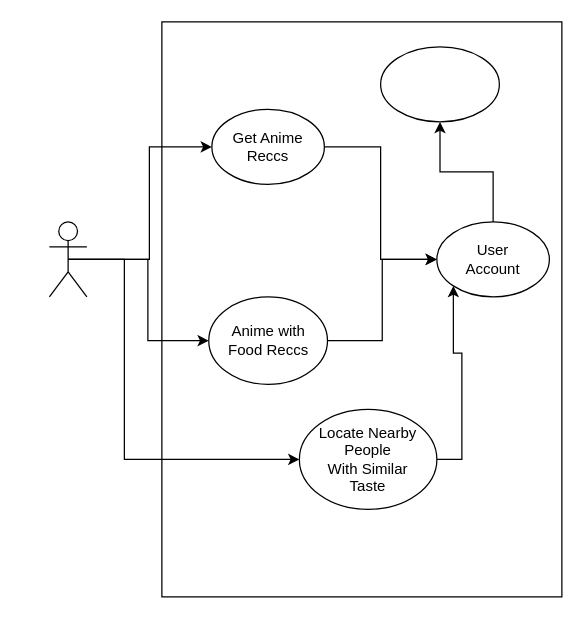
This 584x619 diagram has some shape labels left out. The box of each missing label's shape, as (x1, y1, x2, y2) in pixels:
Anime Viewer: (48, 221, 87, 297)
Manage Preferences: (379, 46, 499, 122)
